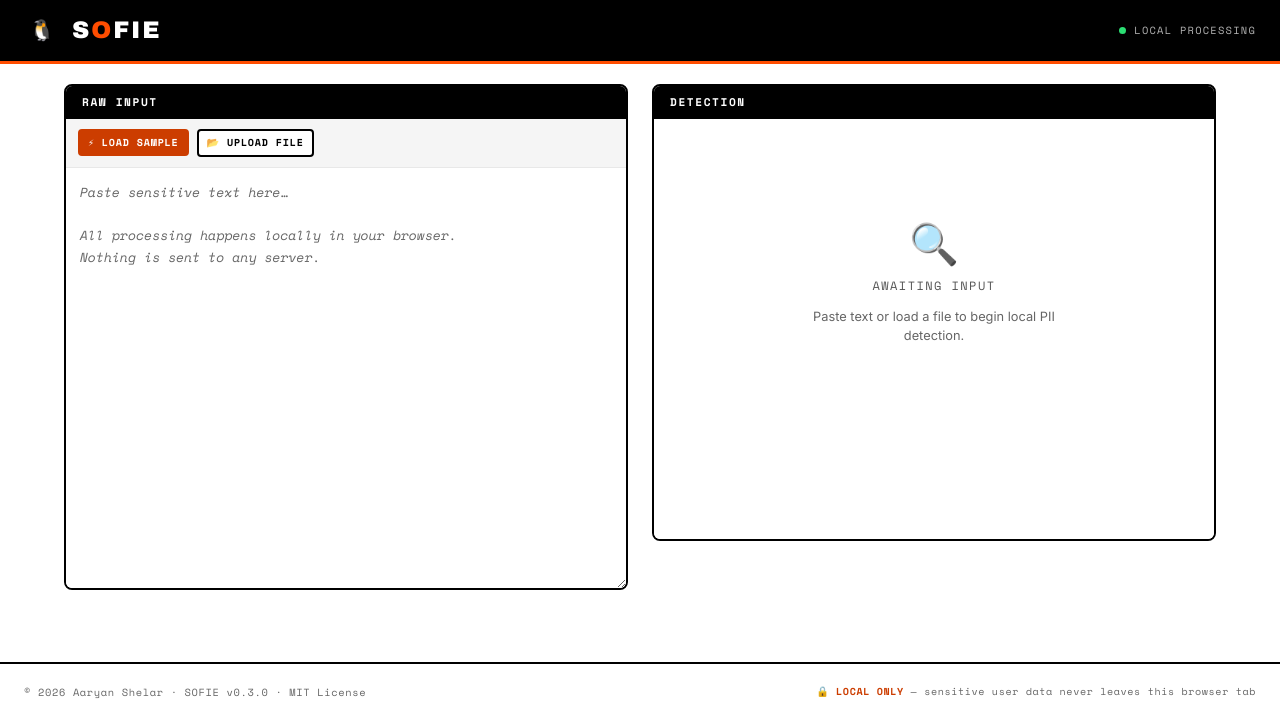
SOFIE Phase 2 UI › 24. Sanitizes fresh detection ranges after the new scan completes
Later steps or results of the test are not shown.
(page scrolled)
Replace the text in the text box with test id "text-input" with "Old: old@example.com" at x=346, y=378, box [66,168,626,588]
Wait 300 ms
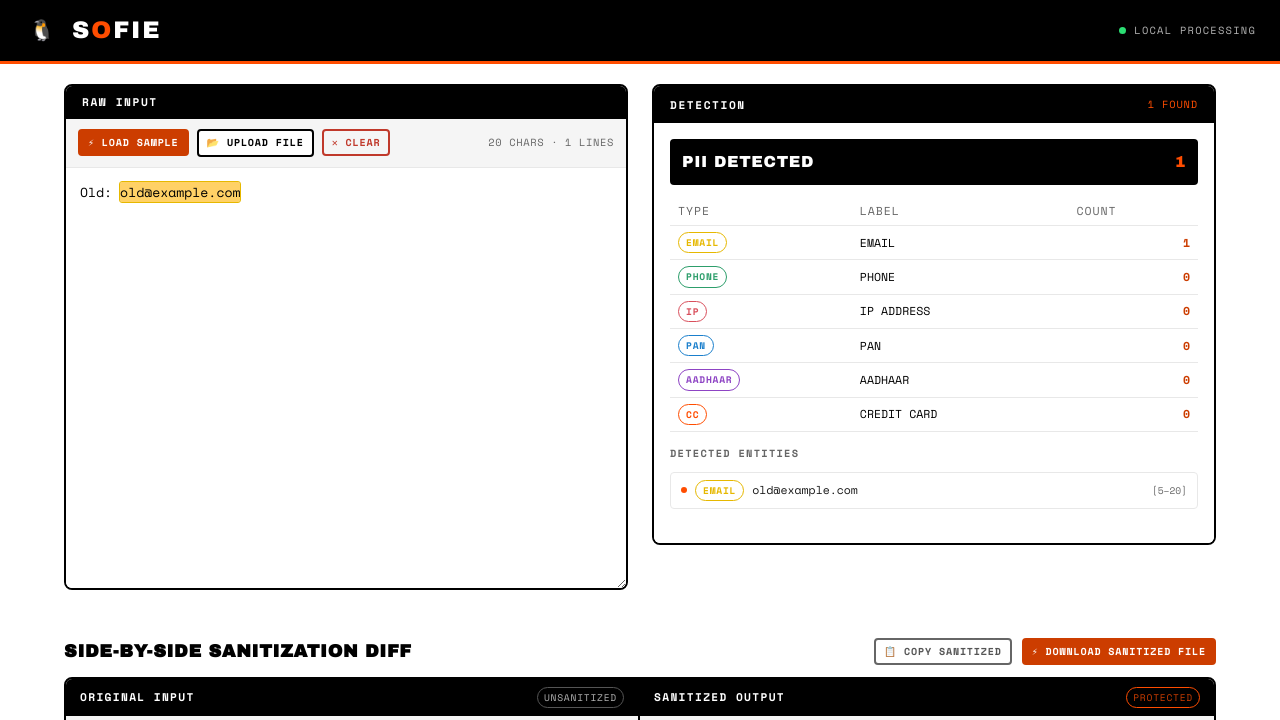
Replace the text in the text box with test id "text-input" with "Fresh: 9876543210" at x=346, y=378, box [66,168,626,588]
Wait 300 ms
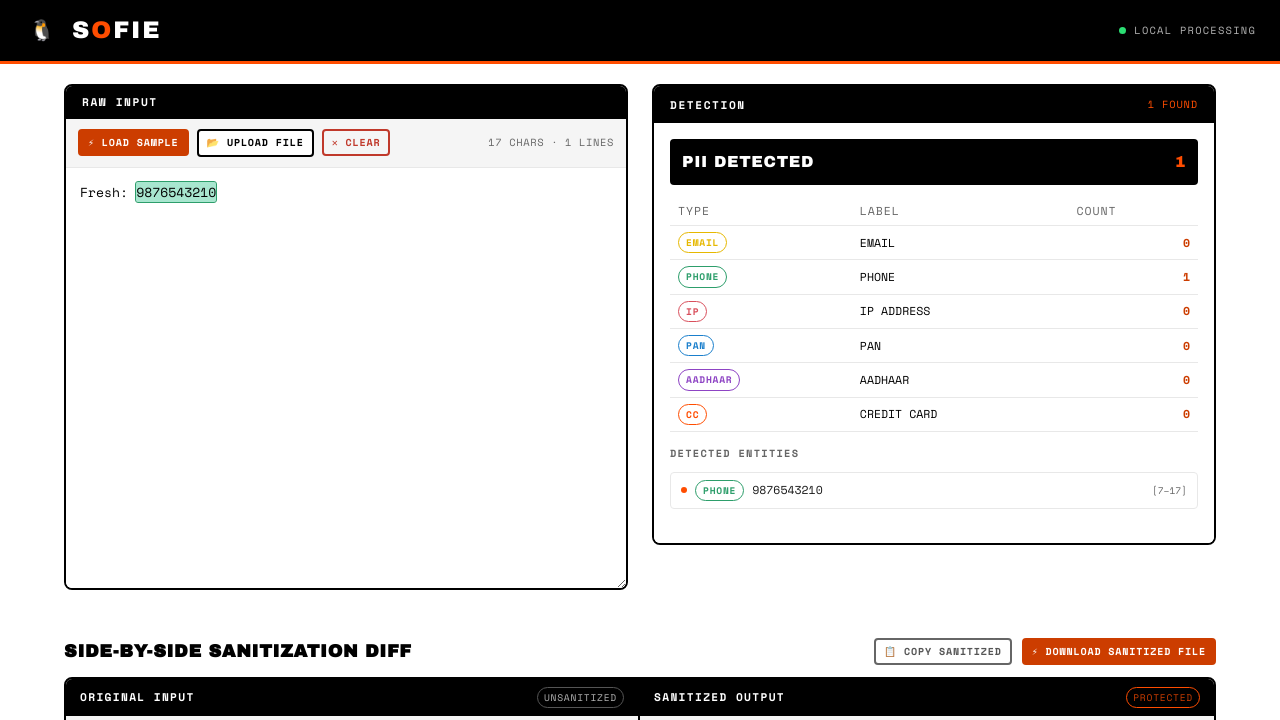
Now the button with test id "download-btn" is enabled, box [1022,638,1216,665]
